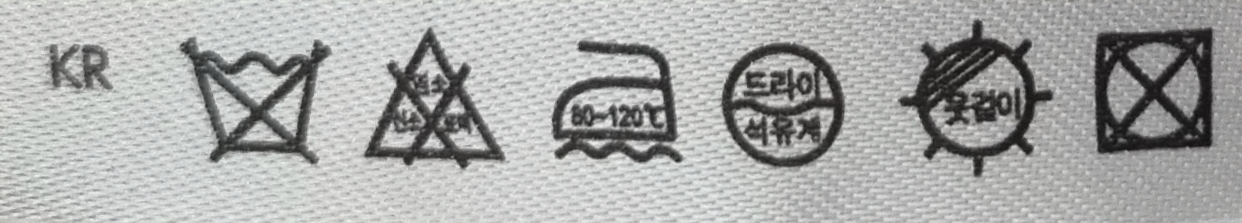KR_dry_clean_petroleum: (697, 33, 863, 172)
KR_hang_dry_in_shade: (899, 20, 1050, 174)
KR_iron_low_temp_with_cloth: (536, 13, 693, 173)
KR_no_bleach: (355, 15, 512, 178)
KR_no_tumble_dry: (1072, 16, 1233, 170)
KR_no_wash: (173, 16, 335, 177)
